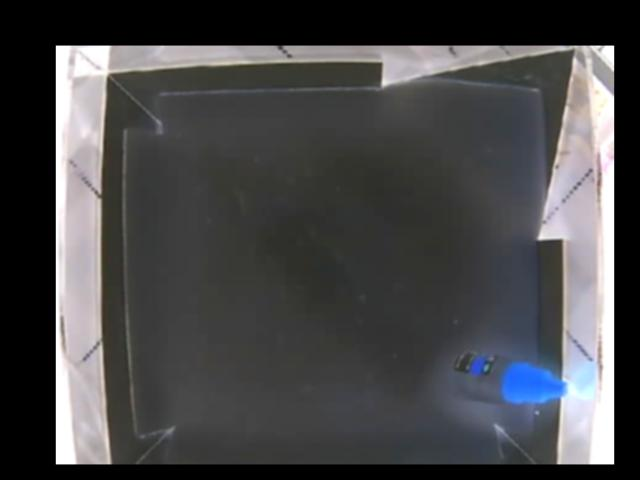Bottle: (453, 349, 567, 408)
